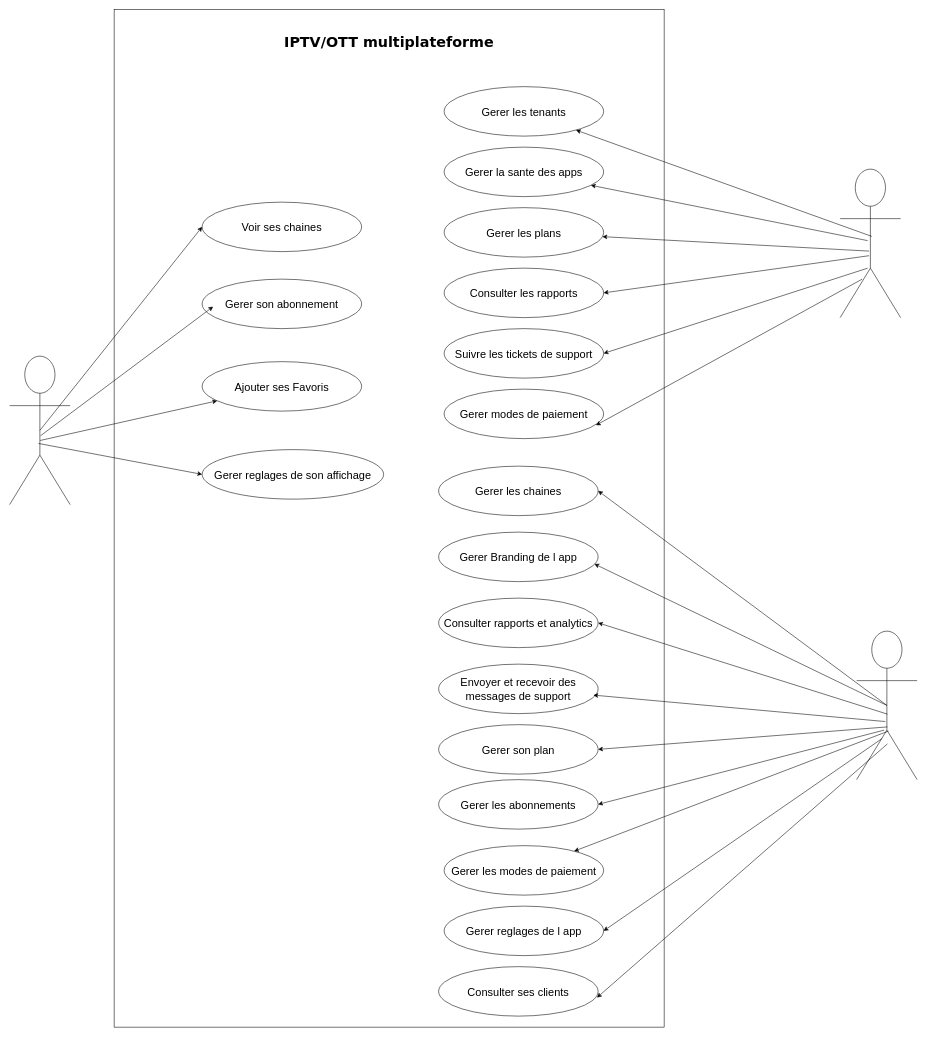
The diagram is 927 pixels wide and 1041 high, and some of its shapes have lost their labels. Each missing label, with the centre of its shape:
"Admin" goes at (886,705).
"Client" goes at (39,430).
"Owner" goes at (870,243).
